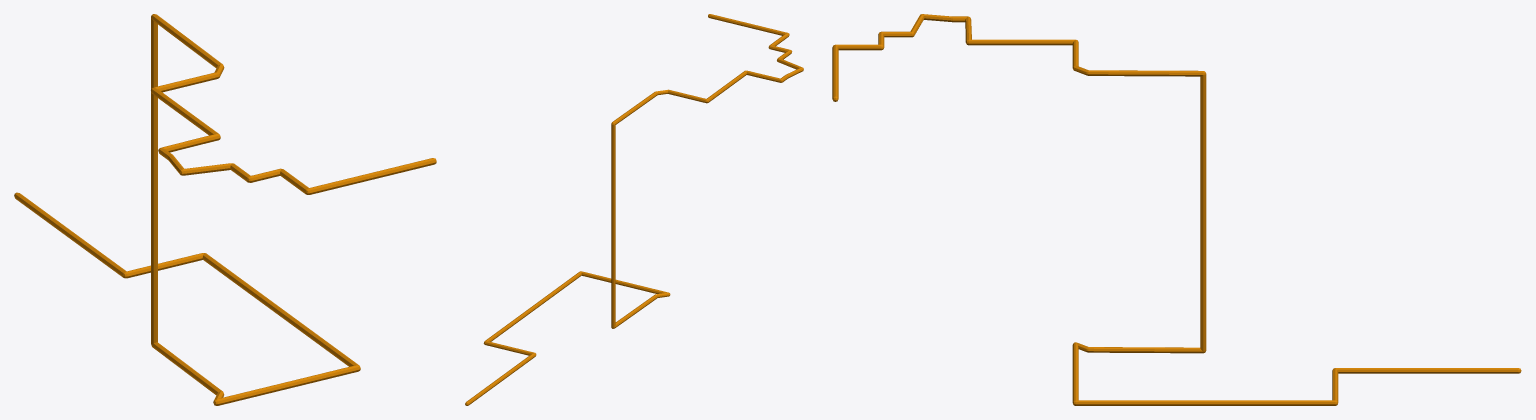
The picture shows the model from 3 angles, left to right: view 1: azimuth 30°, elevation 25°; view 2: azimuth 150°, elevation 25°; view 3: azimuth 270°, elevation 25°; orthographic projection. The views are drawn at different scales.
Bounding box in the file's own units: 869 × 1020 × 2257.
